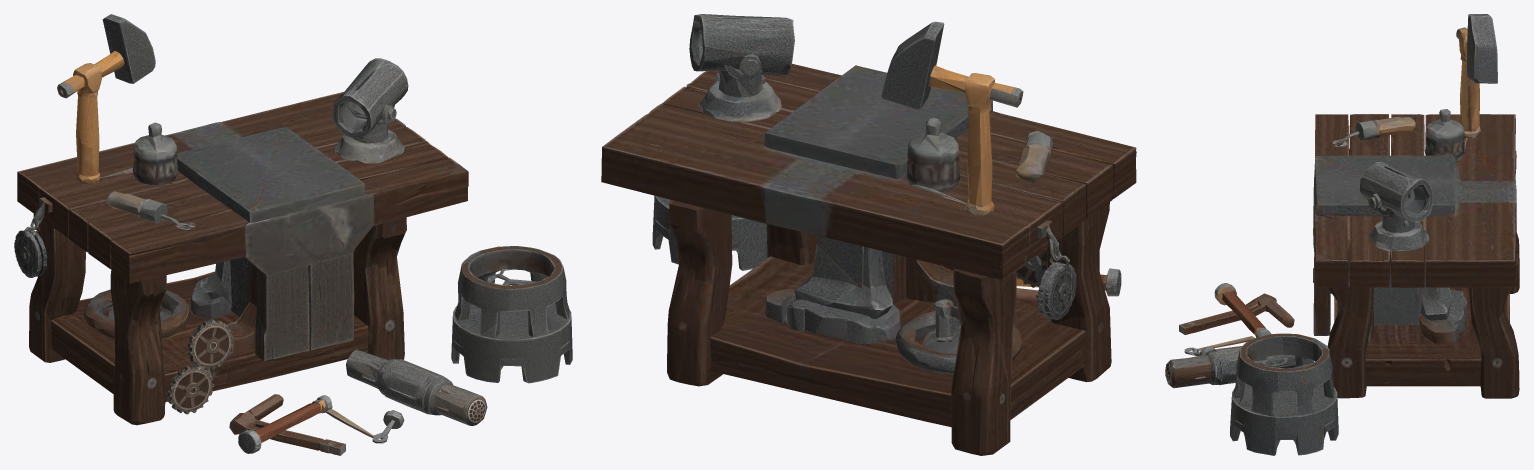
Rendered from anvil.glb.
3 renders of one model, left to right at view 1: azimuth 30°, elevation 25°; view 2: azimuth 150°, elevation 25°; view 3: azimuth 270°, elevation 25°, orthographic. The views are drawn at different scales.
Size of the model in its own units: 1.9 by 1.36 by 1.49.
Materials: 1 (1 with a texture image).
